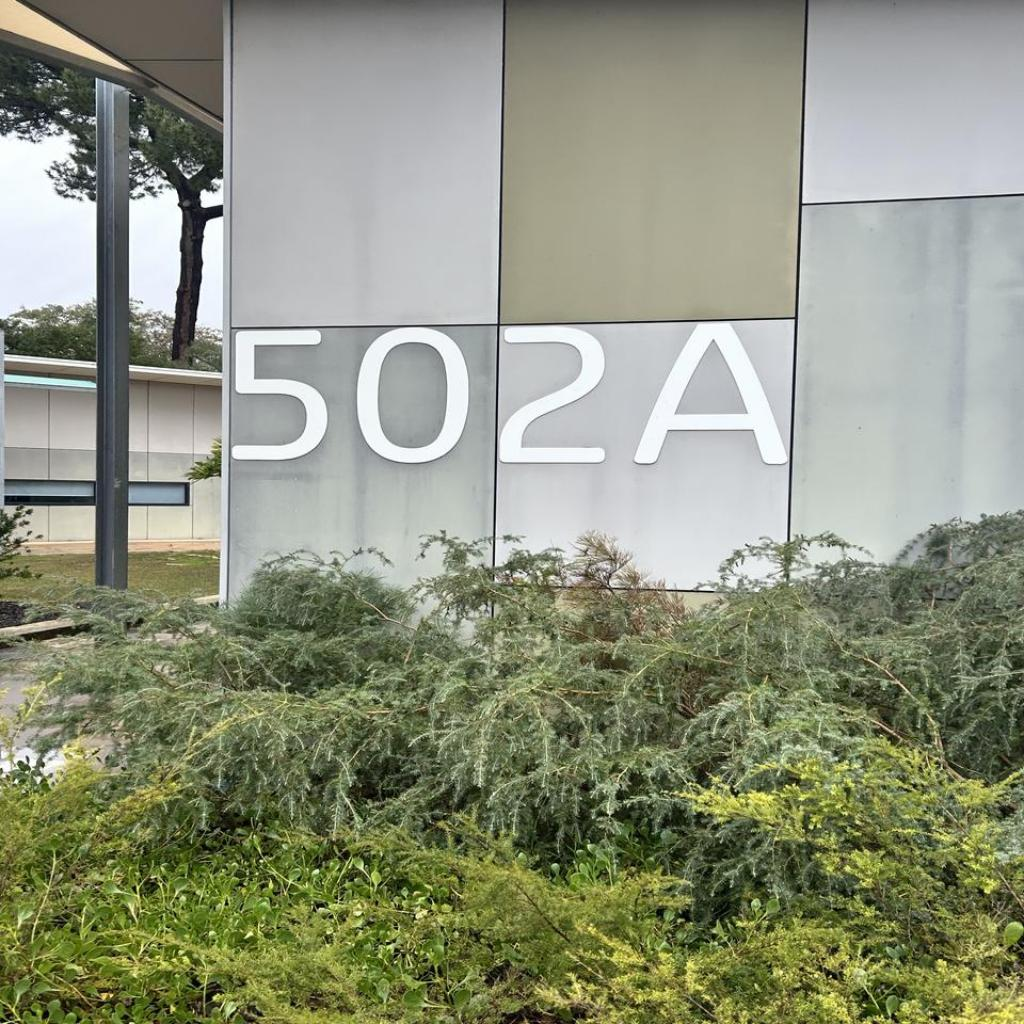BuildingCodes: (227, 320, 795, 474)
